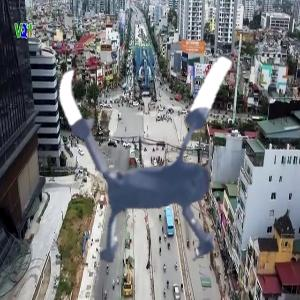drone: (27, 28, 297, 298)
